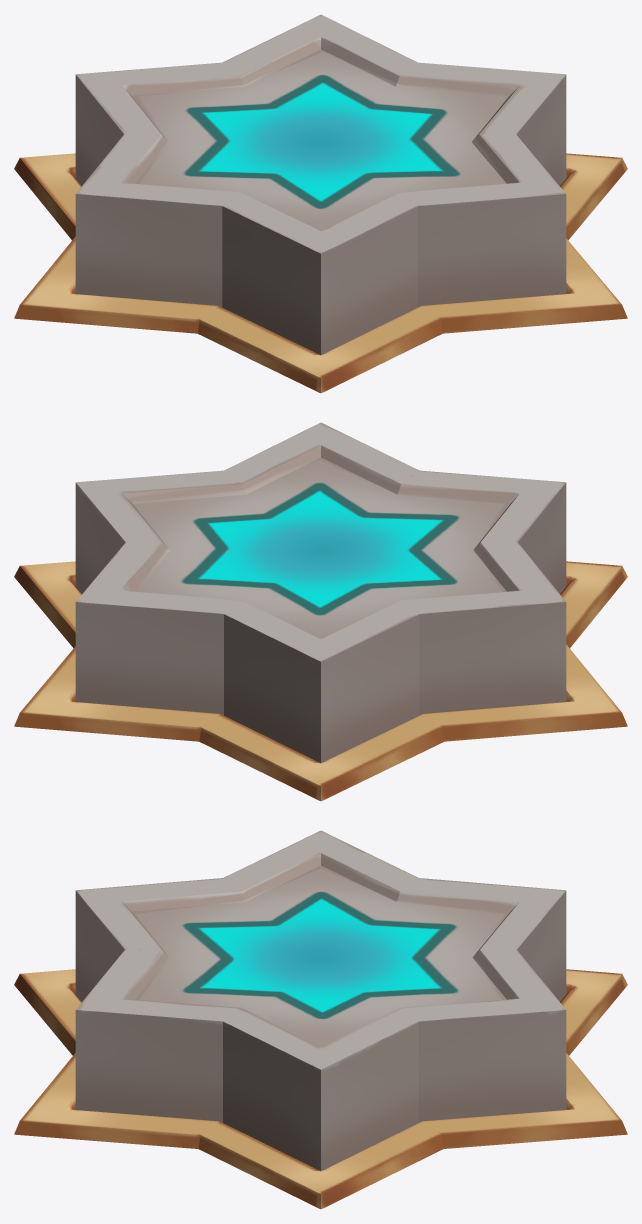
The model's file is gold_button_zeus.FBX.
3 views of the same model, one above another, from view 1: azimuth 30°, elevation 25°; view 2: azimuth 150°, elevation 25°; view 3: azimuth 270°, elevation 25° (orthographic).
Visible parts, largest first — view 1: Object027; view 2: Object027; view 3: Object027.
Part boxes in pixels (x1,y1,x2,y2): Object027: (14, 14, 627, 393); Object027: (14, 422, 627, 801); Object027: (14, 830, 627, 1209).
Size of the model in its own units: 349 by 59.52 by 302.
